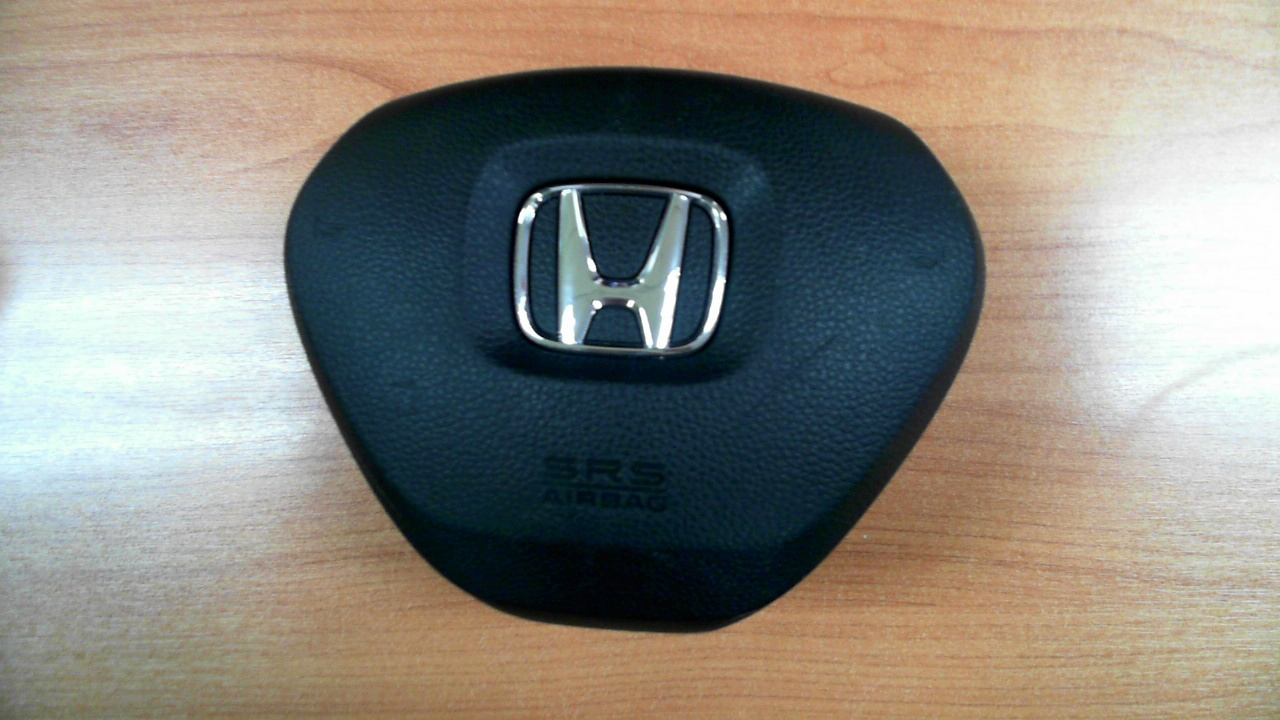Airbag: (282, 65, 987, 635)
Honda: (513, 182, 730, 356)
